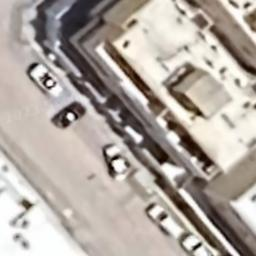SUV: (181, 231, 216, 256)
sedan: (28, 62, 64, 100), (52, 100, 88, 132), (102, 142, 130, 182)
van: (145, 200, 186, 241)
